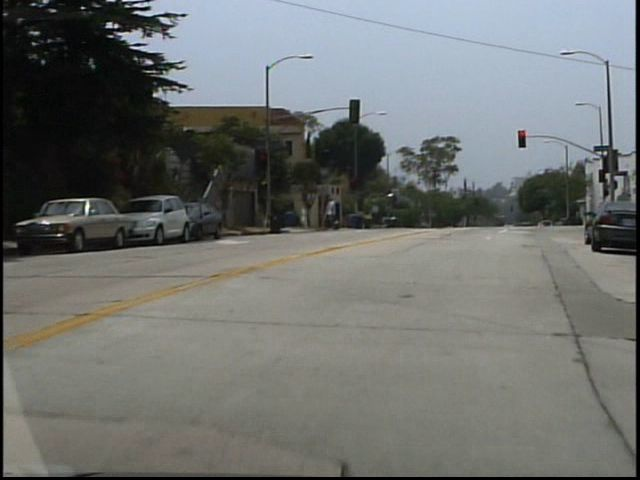person: (332, 199, 345, 233), (306, 203, 314, 231)
